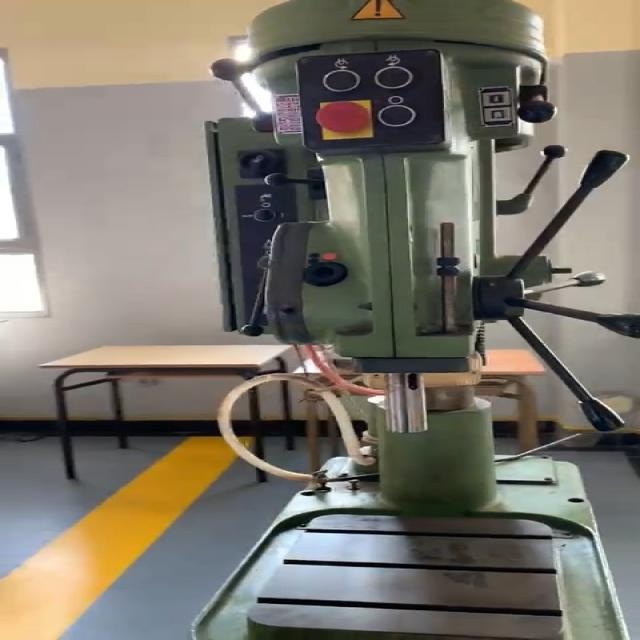perceuse: (192, 0, 640, 640)
